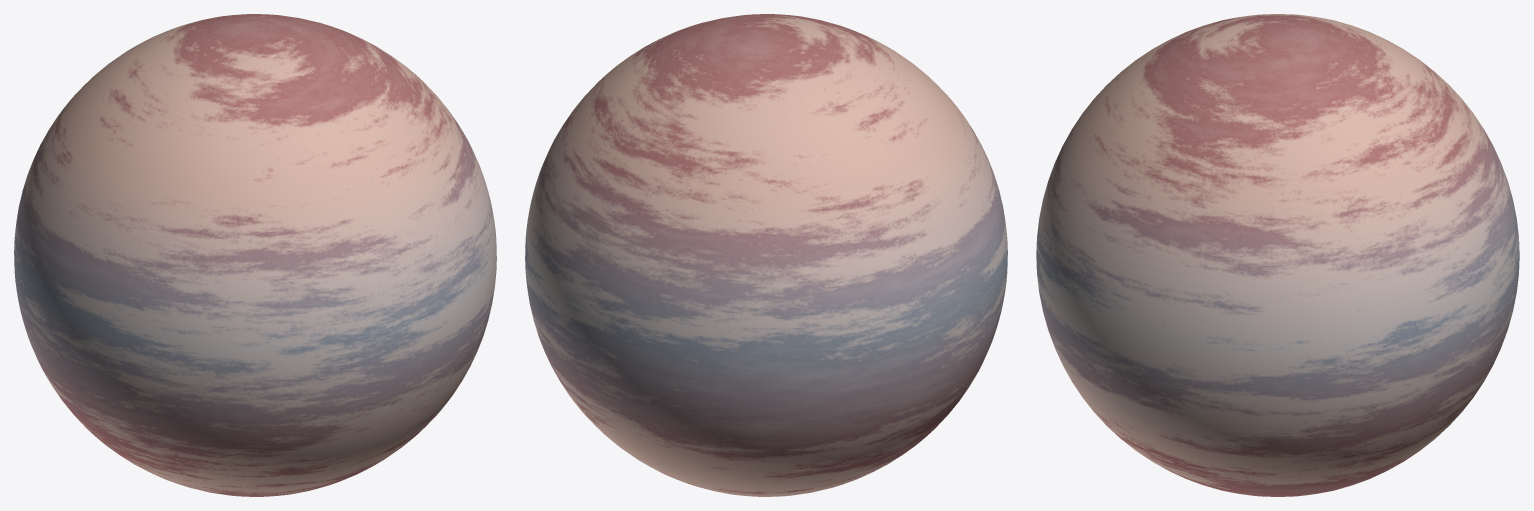
The model's file is jupiter.glb.
The picture shows the model from 3 angles, left to right: view 1: azimuth 30°, elevation 25°; view 2: azimuth 150°, elevation 25°; view 3: azimuth 270°, elevation 25°; orthographic projection.
Parts seen in each view (by area): view 1: Júpiter; view 2: Júpiter; view 3: Júpiter.
Boxes of the visible parts, left/top/right/bottom form: Júpiter: left=14, top=14, right=496, bottom=496; Júpiter: left=525, top=14, right=1007, bottom=496; Júpiter: left=1036, top=14, right=1519, bottom=496.
Size of the model in its own units: 0.1669 by 0.1673 by 0.167.
1 material, 1 textured.
